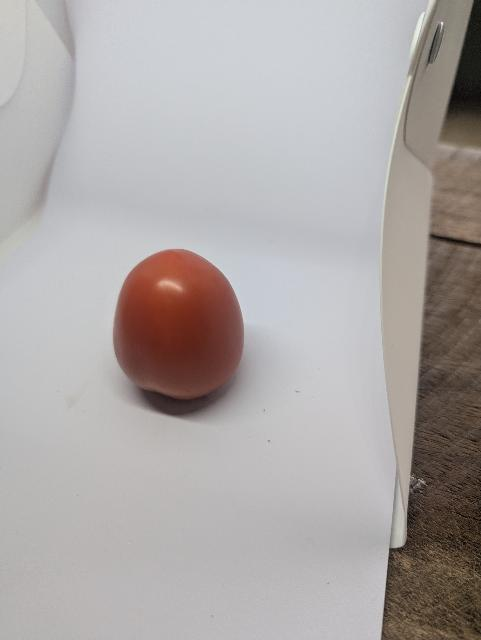red: (107, 235, 262, 420)
